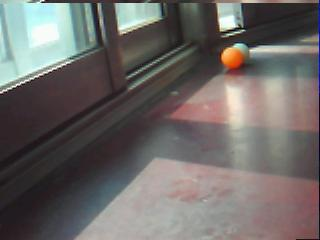oball: (221, 46, 243, 69)
